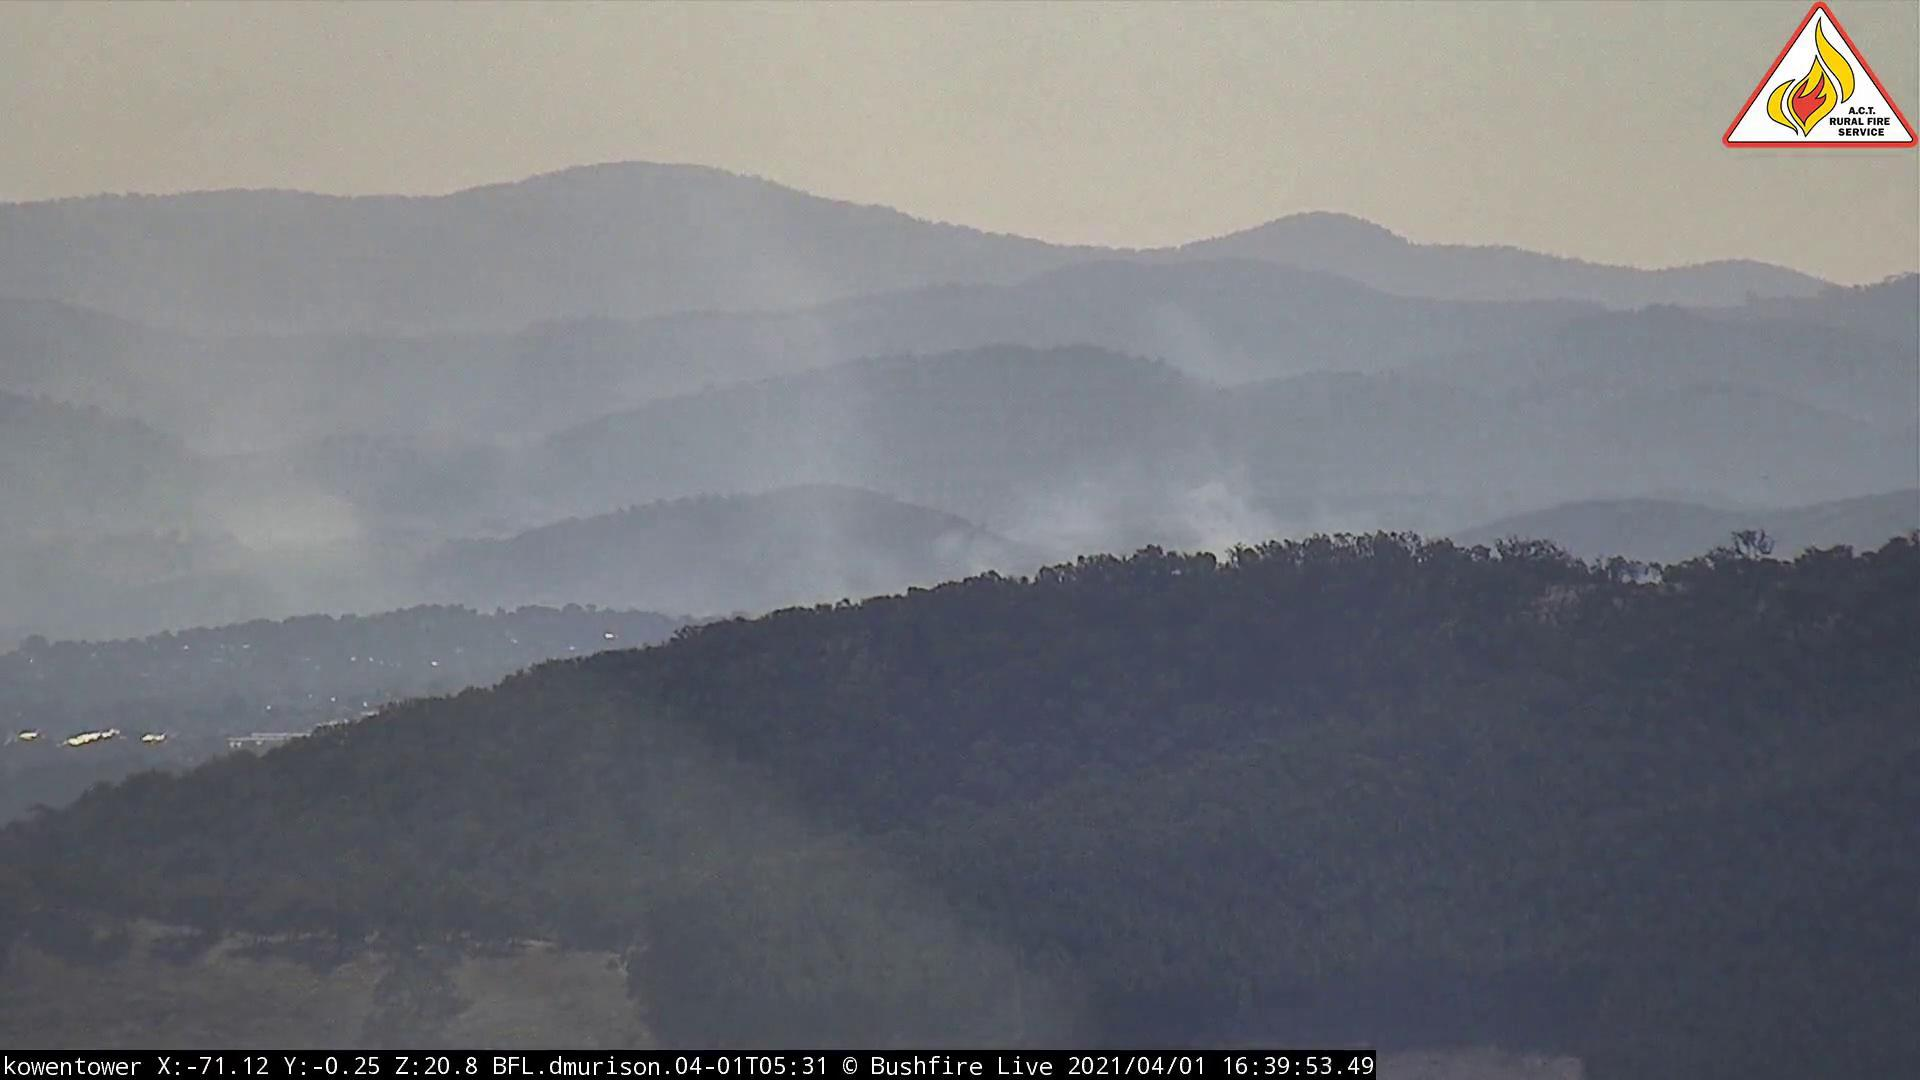instance_salient_object: (733, 289, 1487, 645)
